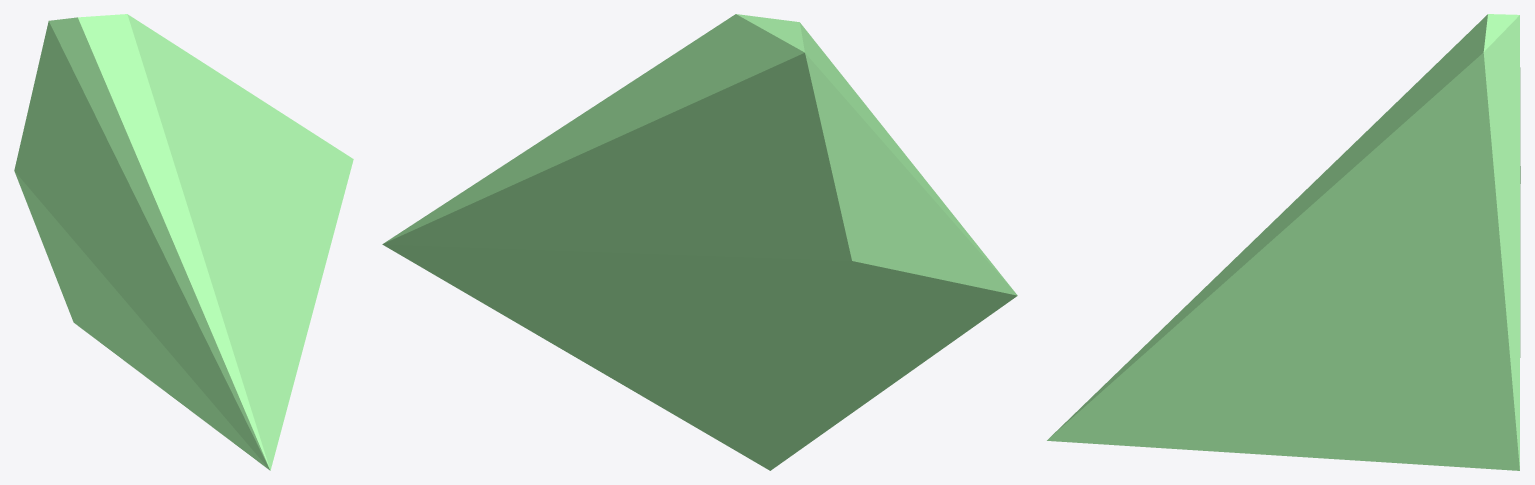
Rendered from linkhou_robot_base_coll_4.dae.
3 views of the same model, side by side, from view 1: azimuth 30°, elevation 25°; view 2: azimuth 150°, elevation 25°; view 3: azimuth 270°, elevation 25° (orthographic). The views are drawn at different scales.
Visible parts, largest first — view 1: Node_0000029808437380; view 2: Node_0000029808437380; view 3: Node_0000029808437380.
Part boxes in pixels (box(x1,y1,x2,y2)): Node_0000029808437380: box(14, 14, 353, 470); Node_0000029808437380: box(382, 14, 1017, 470); Node_0000029808437380: box(1047, 14, 1520, 470).
Size of the model in its own units: 0.1652 by 0.1535 by 0.1585.
